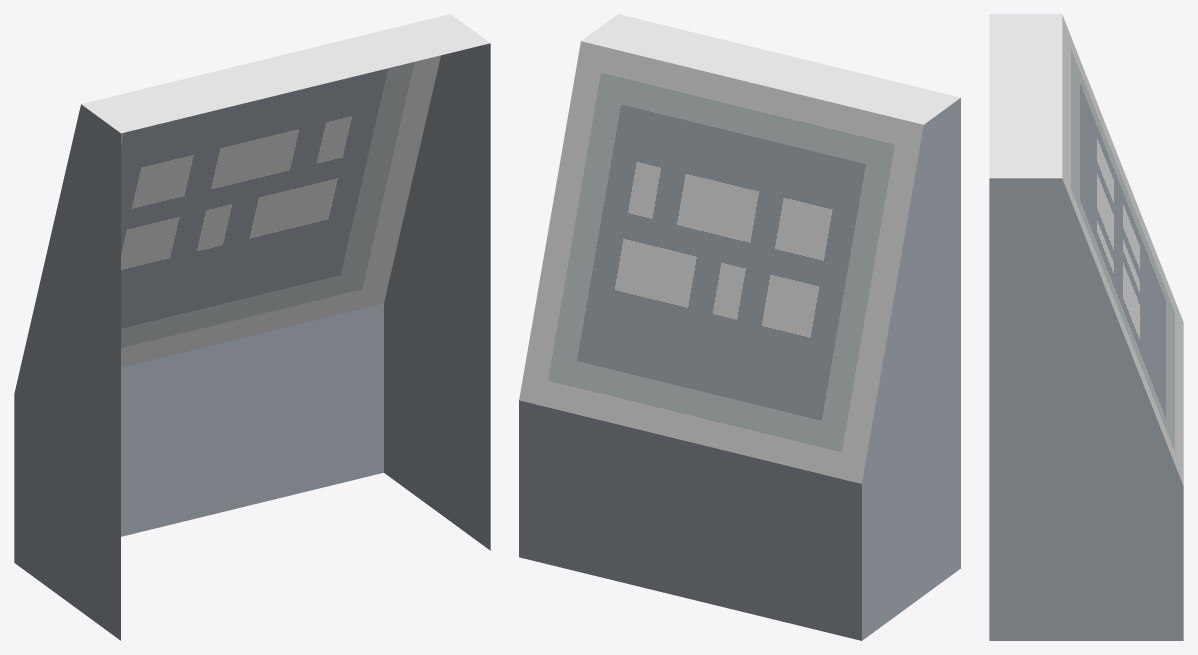
File: sign.glb
3 views of the same model, side by side, from view 1: azimuth 30°, elevation 25°; view 2: azimuth 150°, elevation 25°; view 3: azimuth 270°, elevation 25° (orthographic). The views are drawn at different scales.
Visible parts, largest first — view 1: sign; view 2: sign; view 3: sign.
Part boxes in pixels (bbox=[...]): sign: bbox=[14, 14, 490, 640]; sign: bbox=[519, 14, 960, 640]; sign: bbox=[989, 14, 1183, 640].
Bounding box in the file's own units: 1 × 1.31 × 0.5.
1 material, 1 textured.
